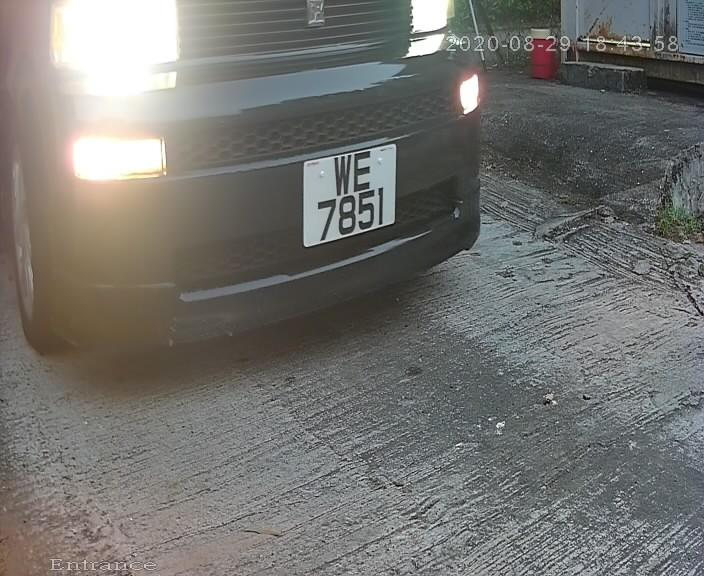License Plate: (290, 137, 403, 258)
